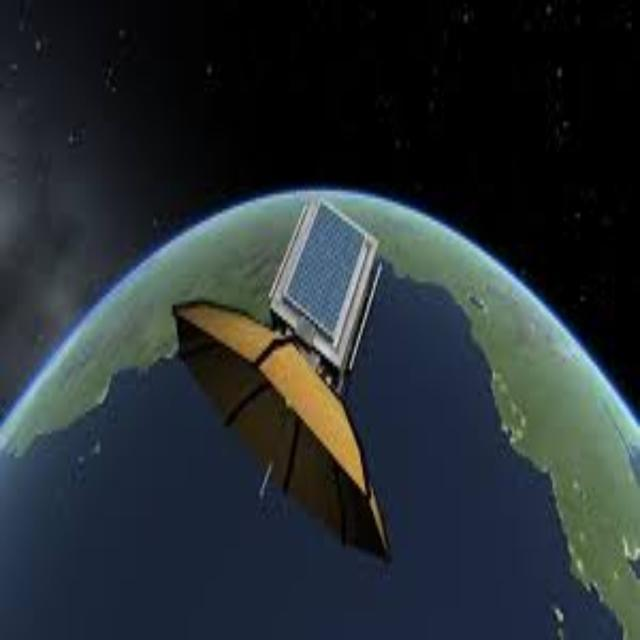sat: (170, 195, 400, 572)
